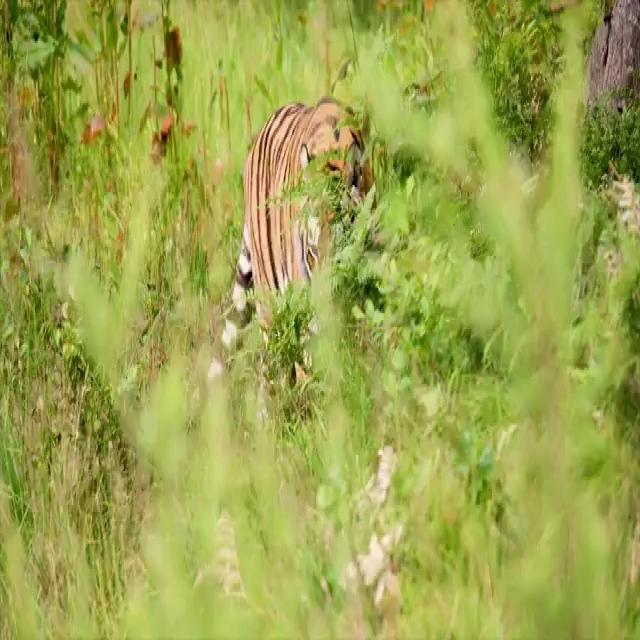tiger: (207, 94, 378, 410)
